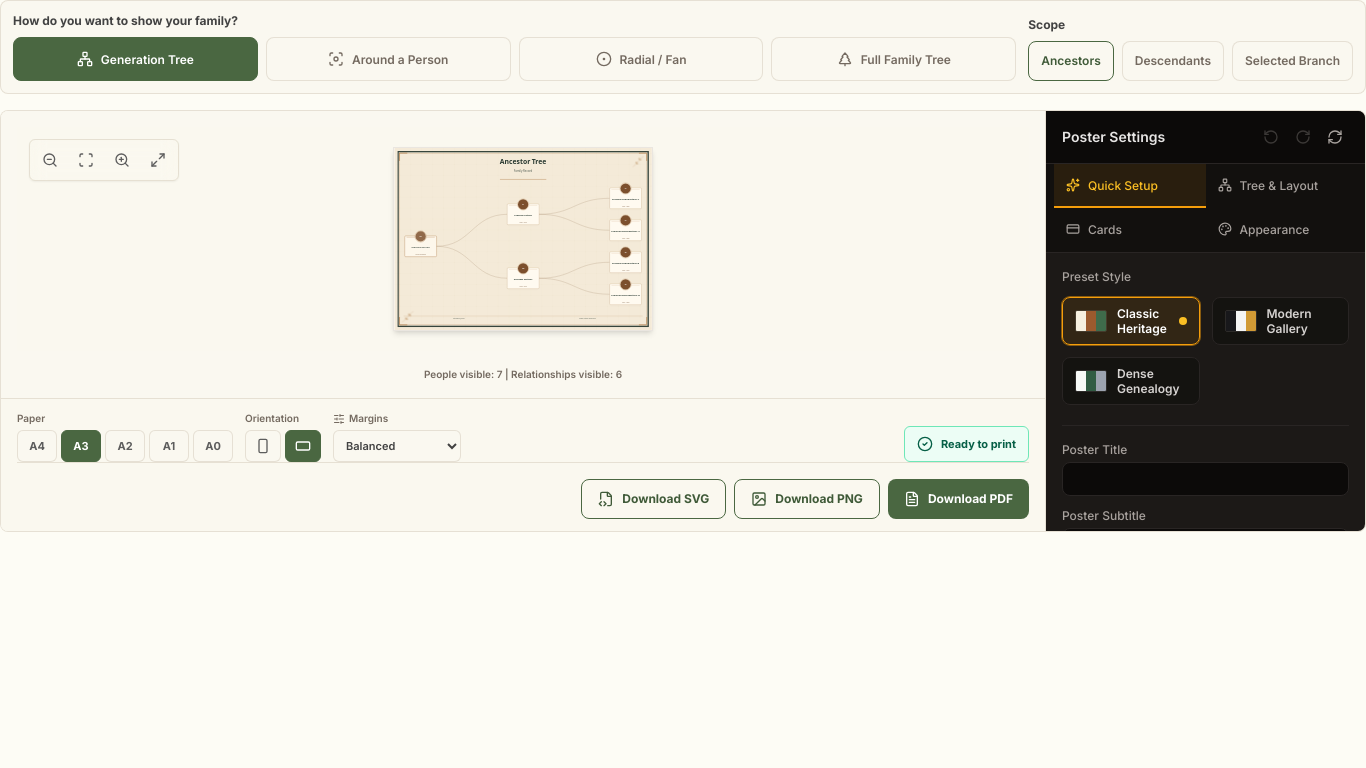
VisualPublishingStudio Phase 1B Complete Behavioral Suite › changes title composition without creating a second preview renderer
Step 1. Type "Custom Family Tree" into the field labelled "Poster Title" → (1206,479), box 1062,462 -> 1349,496
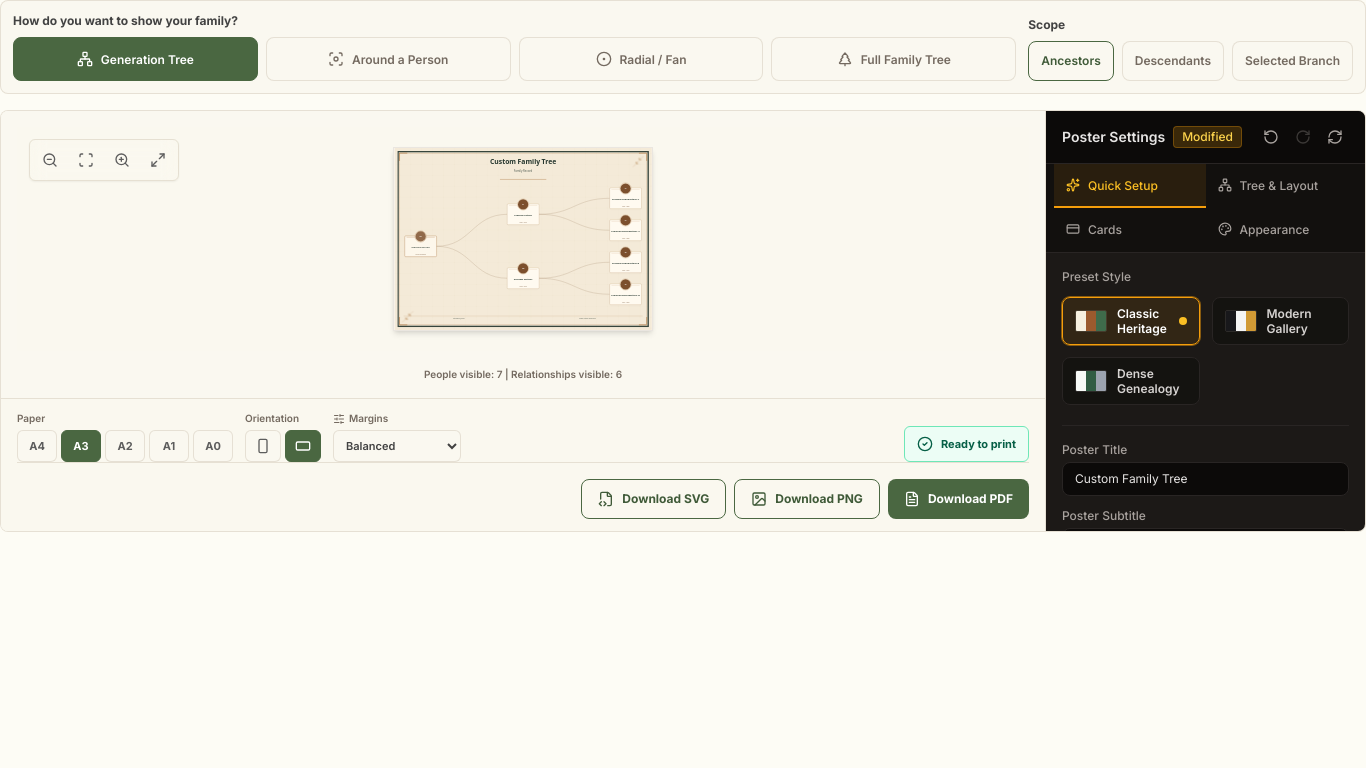
Now the picture with test id "studio-poster-renderer-preview" shows "Custom Family Tree", box 490,157 -> 556,168
Step 2. Click the button named "Undo" → (1271,137), box 1257,123 -> 1285,151
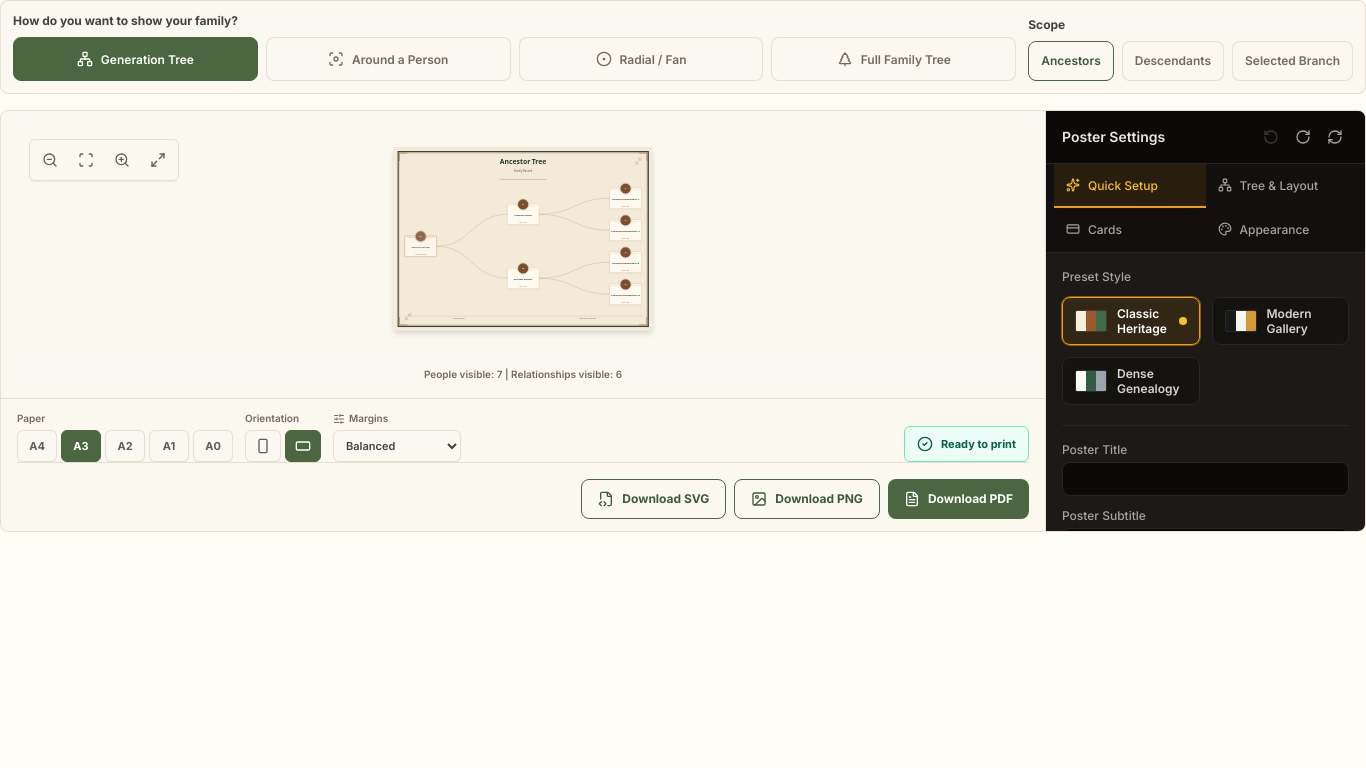
Now the field labelled "Poster Title" is empty, box 1062,462 -> 1349,496
Now the picture with test id "studio-poster-renderer-preview" no longer shows "Custom Family Tree"
